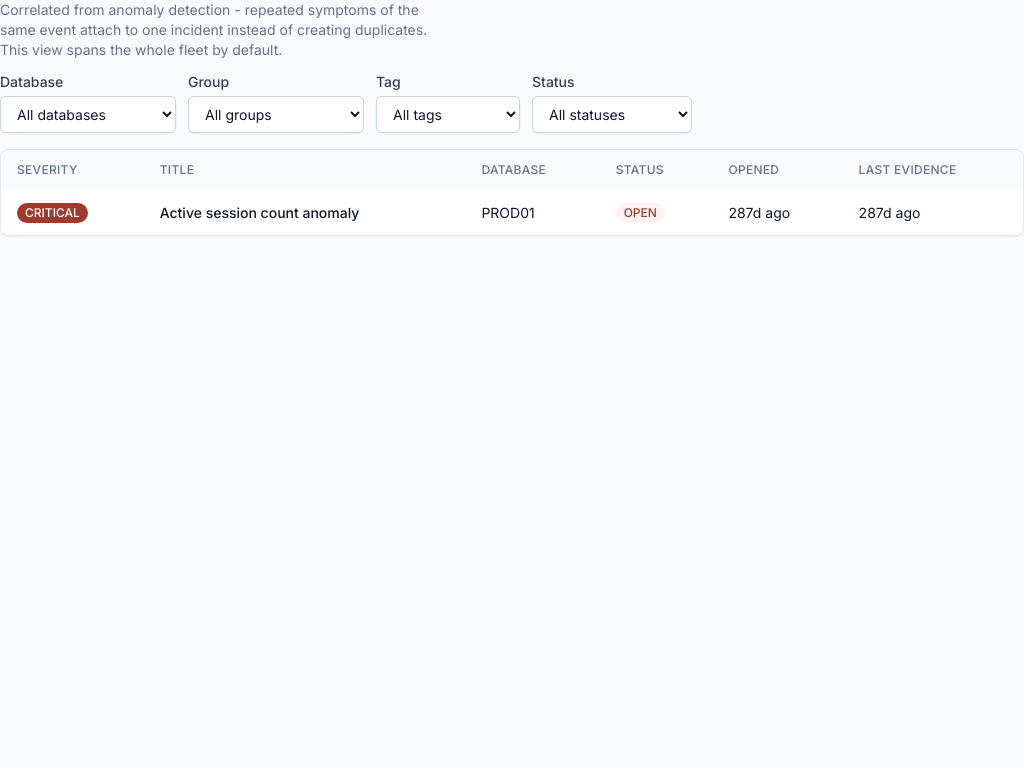
IncidentsPage › runs an AI investigation and renders the grounded RCA result
Click the text "Active session count anomaly" at (260, 212), box [160,204,359,220]
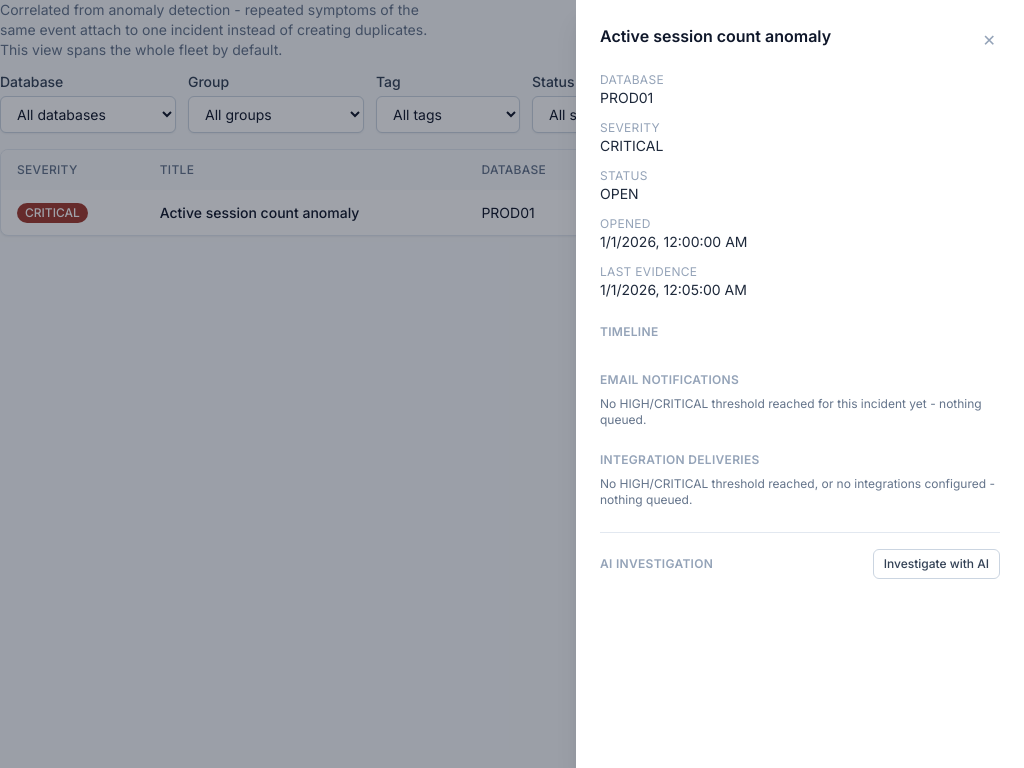
Click the button "Investigate with AI" at (936, 564), box [873,549,1000,579]
(page scrolled)
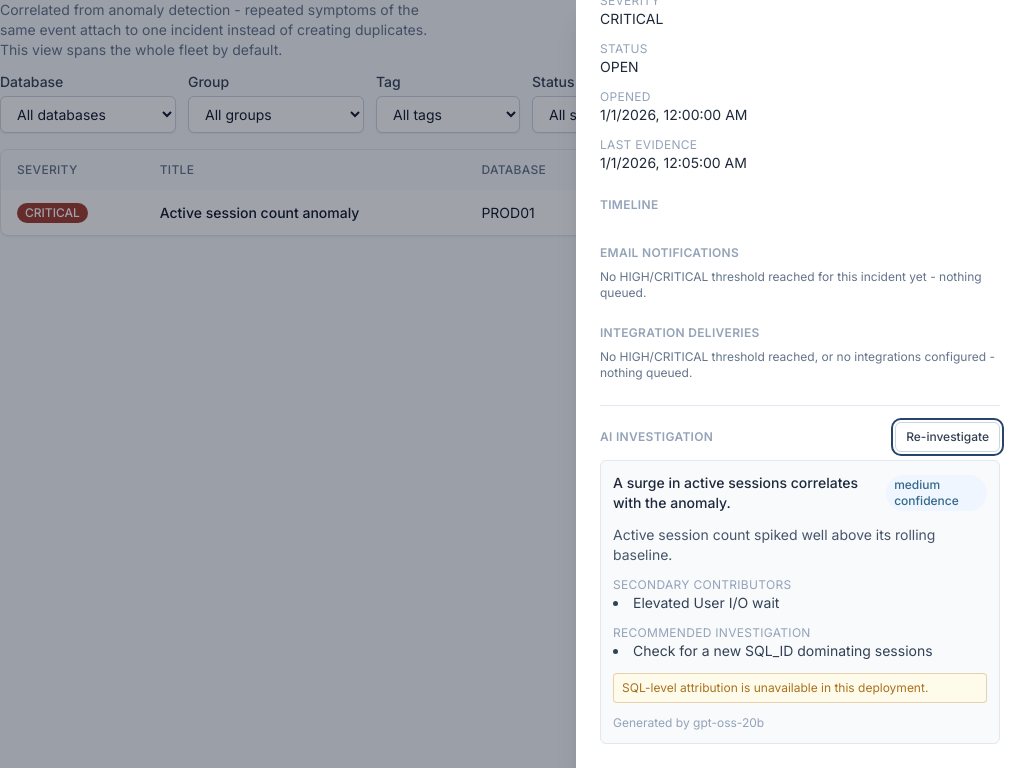
Check: the text "A surge in active sessions correlates with the anomaly." is shown, box [613,473,886,513]
Check: the text "medium confidence" is shown, box [886,475,987,511]
Check: the list item "Elevated User I/O wait" is shown, box [633,594,779,611]
